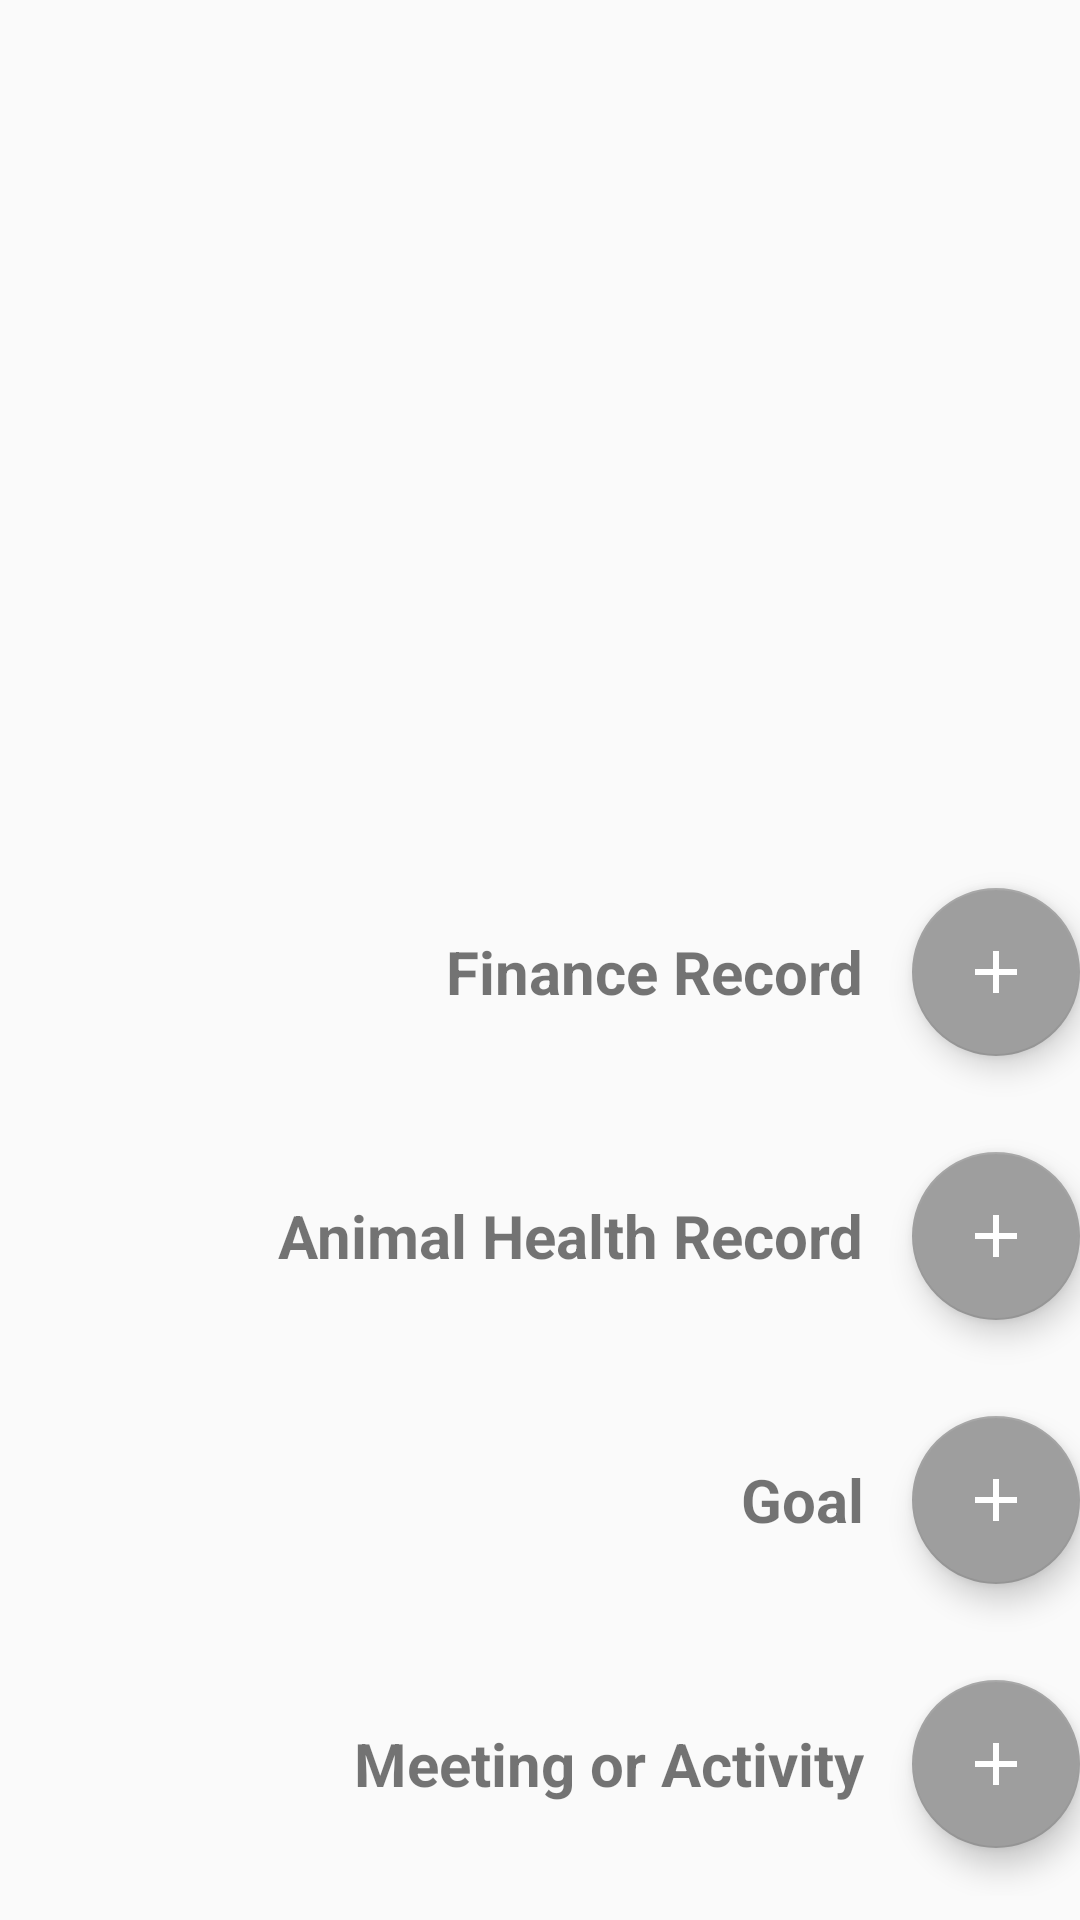

Locate icon controls on the screen. Image size 1080px x 1920px, boxes as [x1=x1, y1=y1, x2=x2, y2=y2].
add: [x1=912, y1=888, x2=1080, y2=1056], [x1=912, y1=1152, x2=1080, y2=1320], [x1=912, y1=1416, x2=1080, y2=1584], [x1=912, y1=1680, x2=1080, y2=1848]
